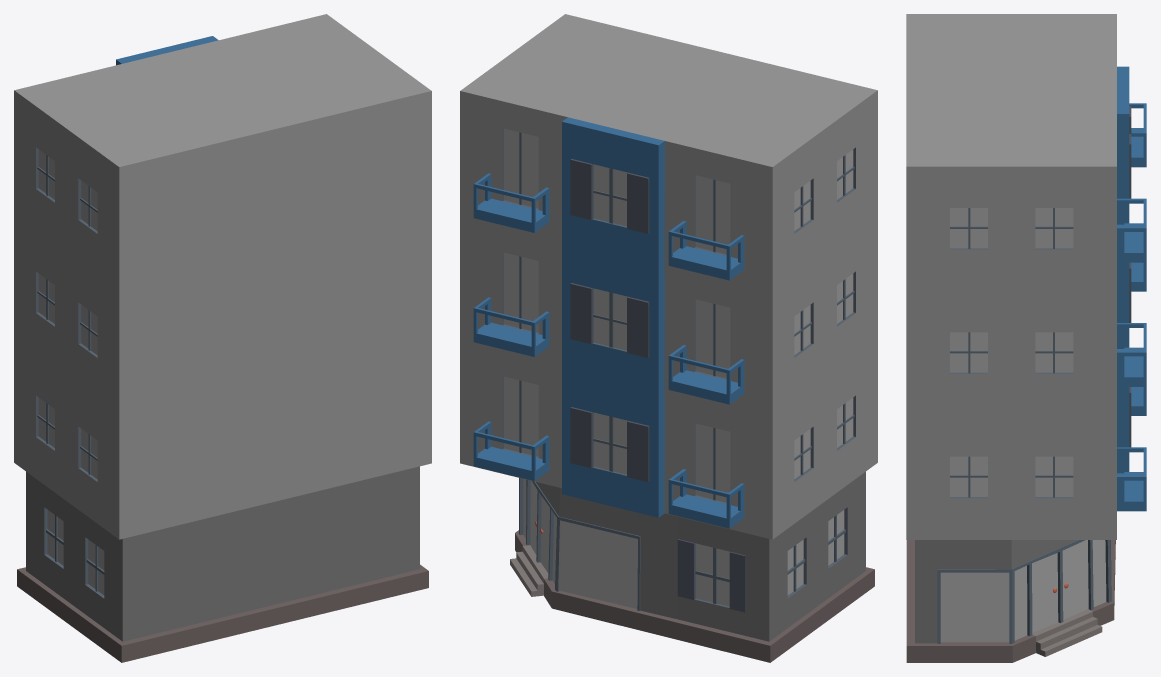
The model's file is bar.fbx.
The picture shows the model from 3 angles, left to right: view 1: azimuth 30°, elevation 25°; view 2: azimuth 150°, elevation 25°; view 3: azimuth 270°, elevation 25°; orthographic projection.
Parts seen in each view (by area): view 1: restaurant.004; view 2: restaurant.004; view 3: restaurant.004.
Part boxes in pixels (x1=…): restaurant.004: x1=14, y1=14, x2=431, y2=662; restaurant.004: x1=460, y1=14, x2=877, y2=662; restaurant.004: x1=906, y1=14, x2=1146, y2=662.
Bounding box in the file's own units: 4482 × 6804 × 2978.
